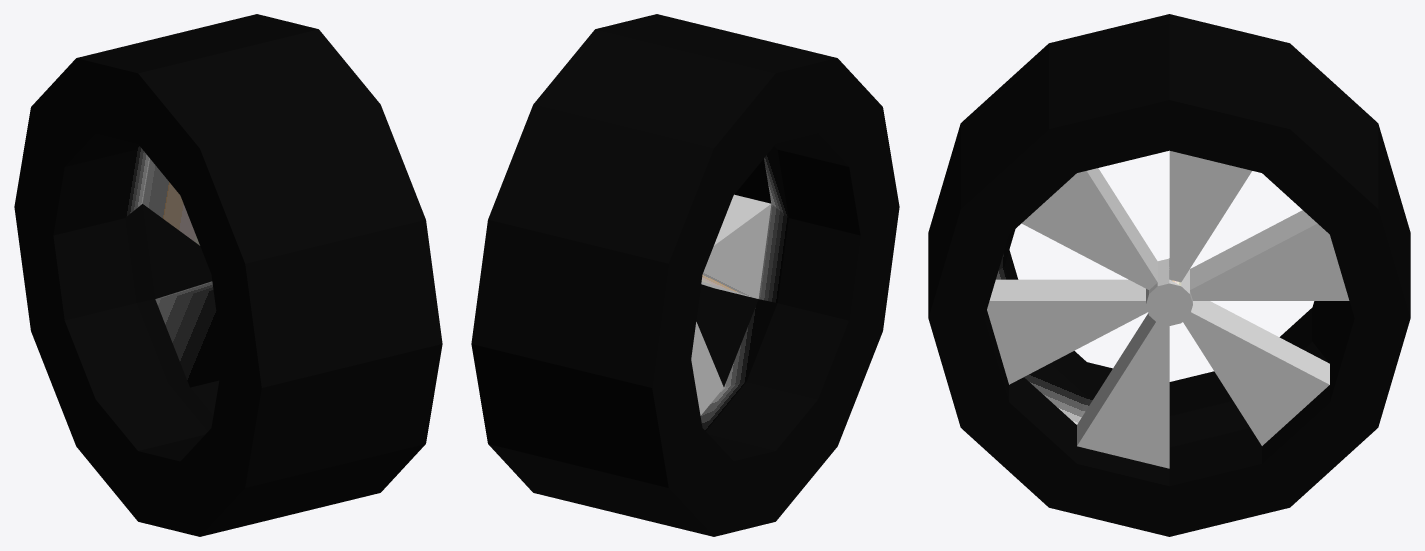
Rendered from Wheel.fbx.
3 views of the same model, side by side, from view 1: azimuth 30°, elevation 25°; view 2: azimuth 150°, elevation 25°; view 3: azimuth 270°, elevation 25° (orthographic). The views are drawn at different scales.
Visible parts, largest first — view 1: Wheel; view 2: Wheel; view 3: Wheel.
Boxes of the visible parts, left/top/right/bottom form: Wheel: left=14, top=14, right=442, bottom=536; Wheel: left=471, top=14, right=899, bottom=536; Wheel: left=928, top=14, right=1410, bottom=536.
Size of the model in its own units: 0.7354 by 0.7354 by 0.3103.
